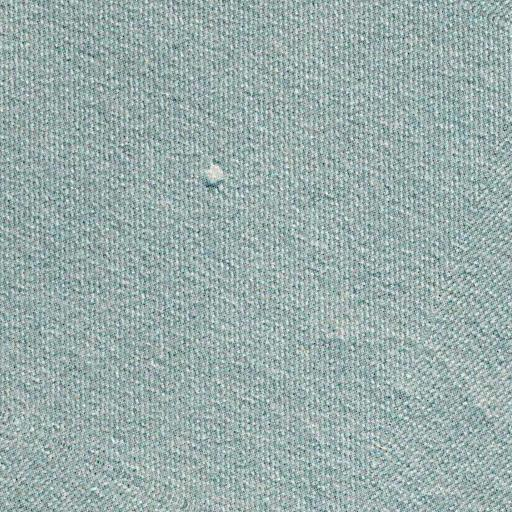knot: (193, 151, 242, 192)
